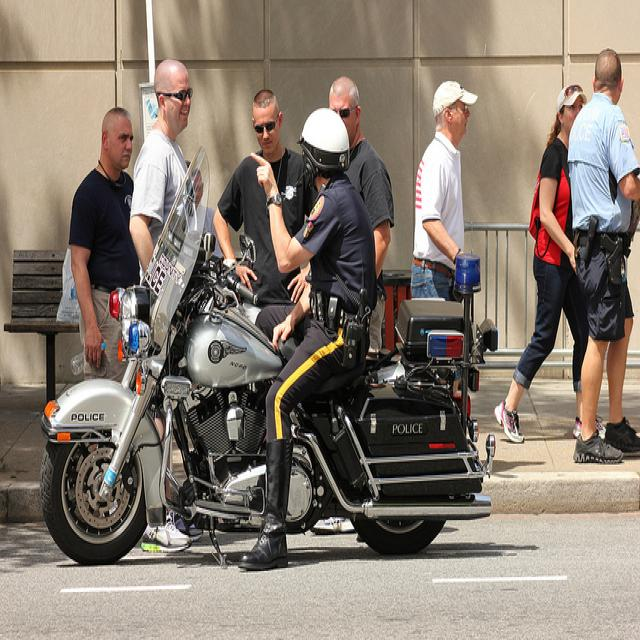motor: (41, 143, 499, 565)
